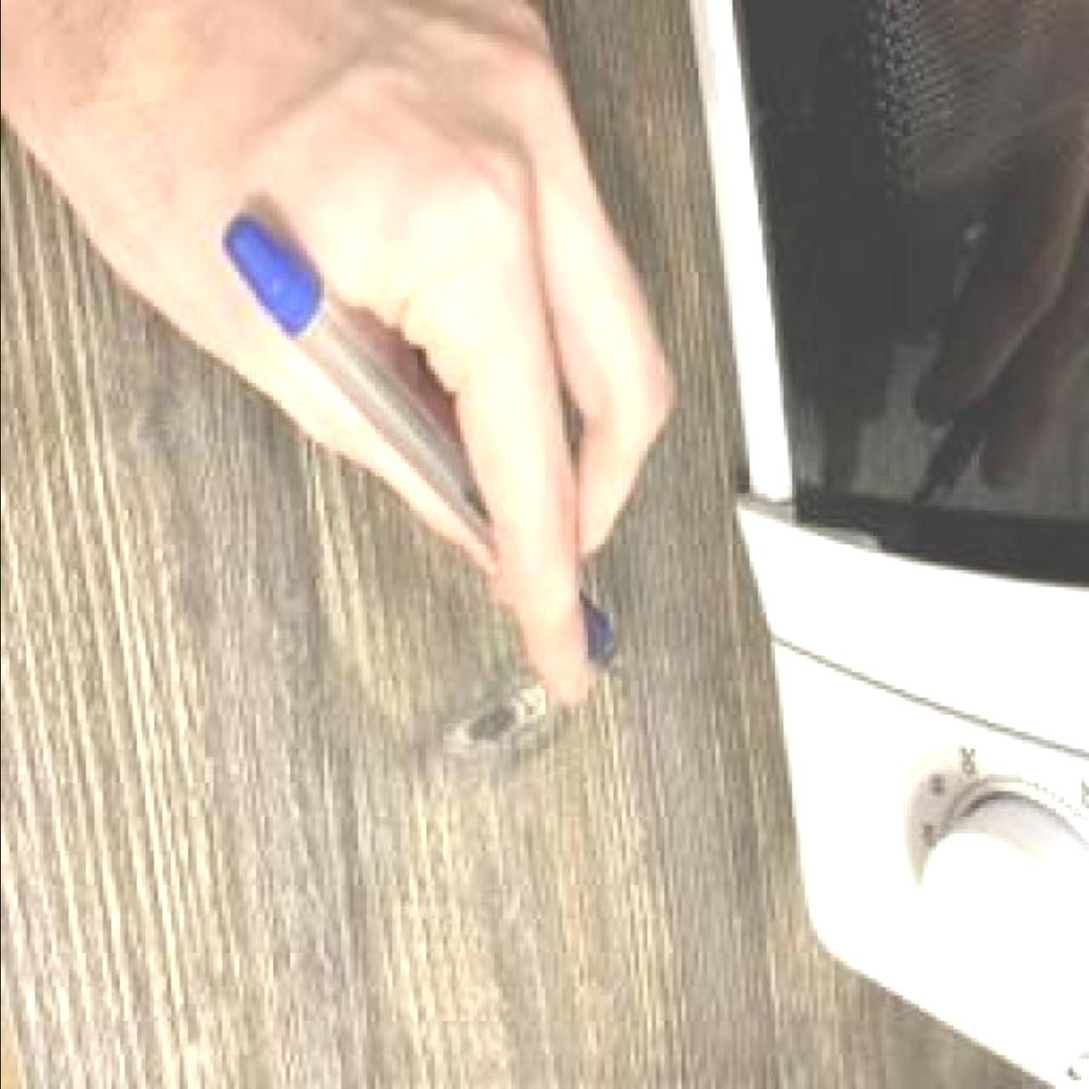pen: (225, 211, 633, 684)
